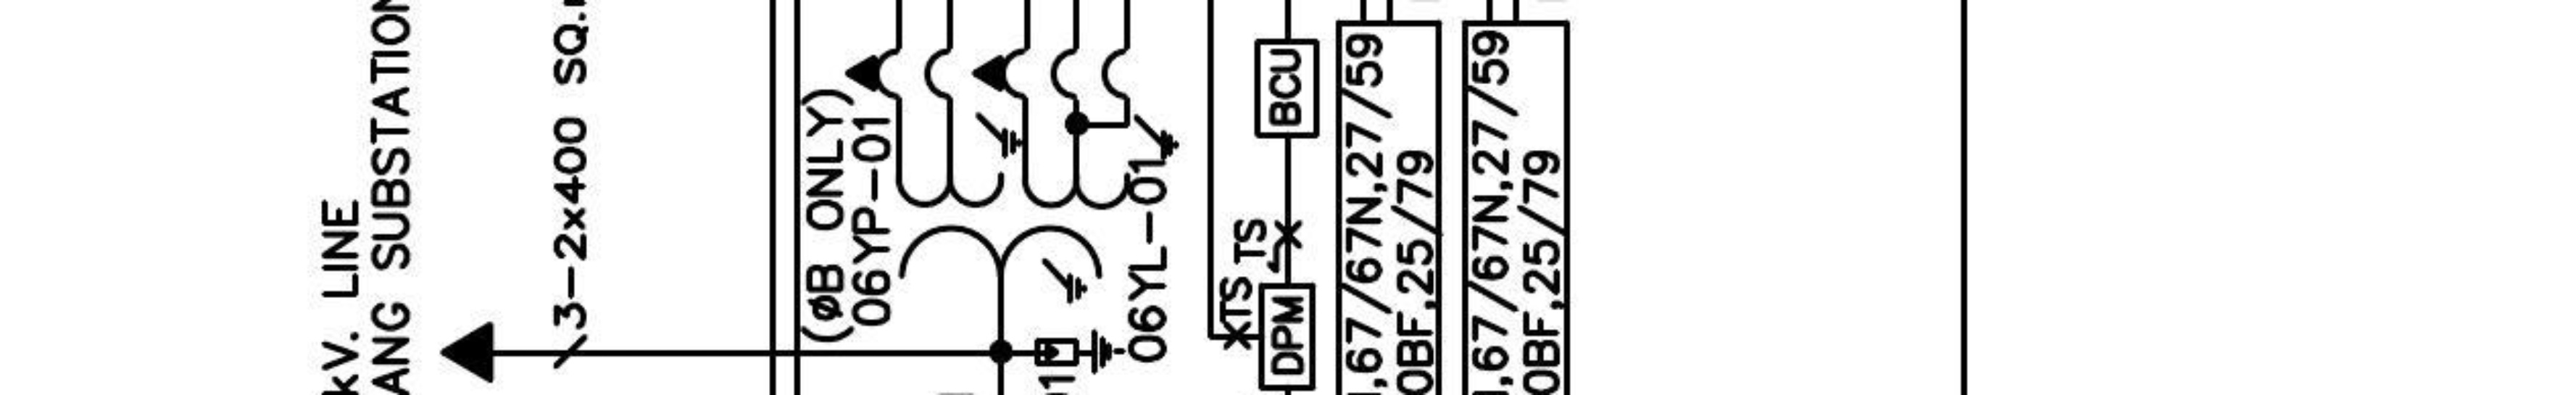115_la: (1033, 328, 1127, 375)
115_vt_1p: (844, 44, 1181, 306)
BCU: (1253, 38, 1321, 140)
DPM: (1257, 283, 1316, 392)
